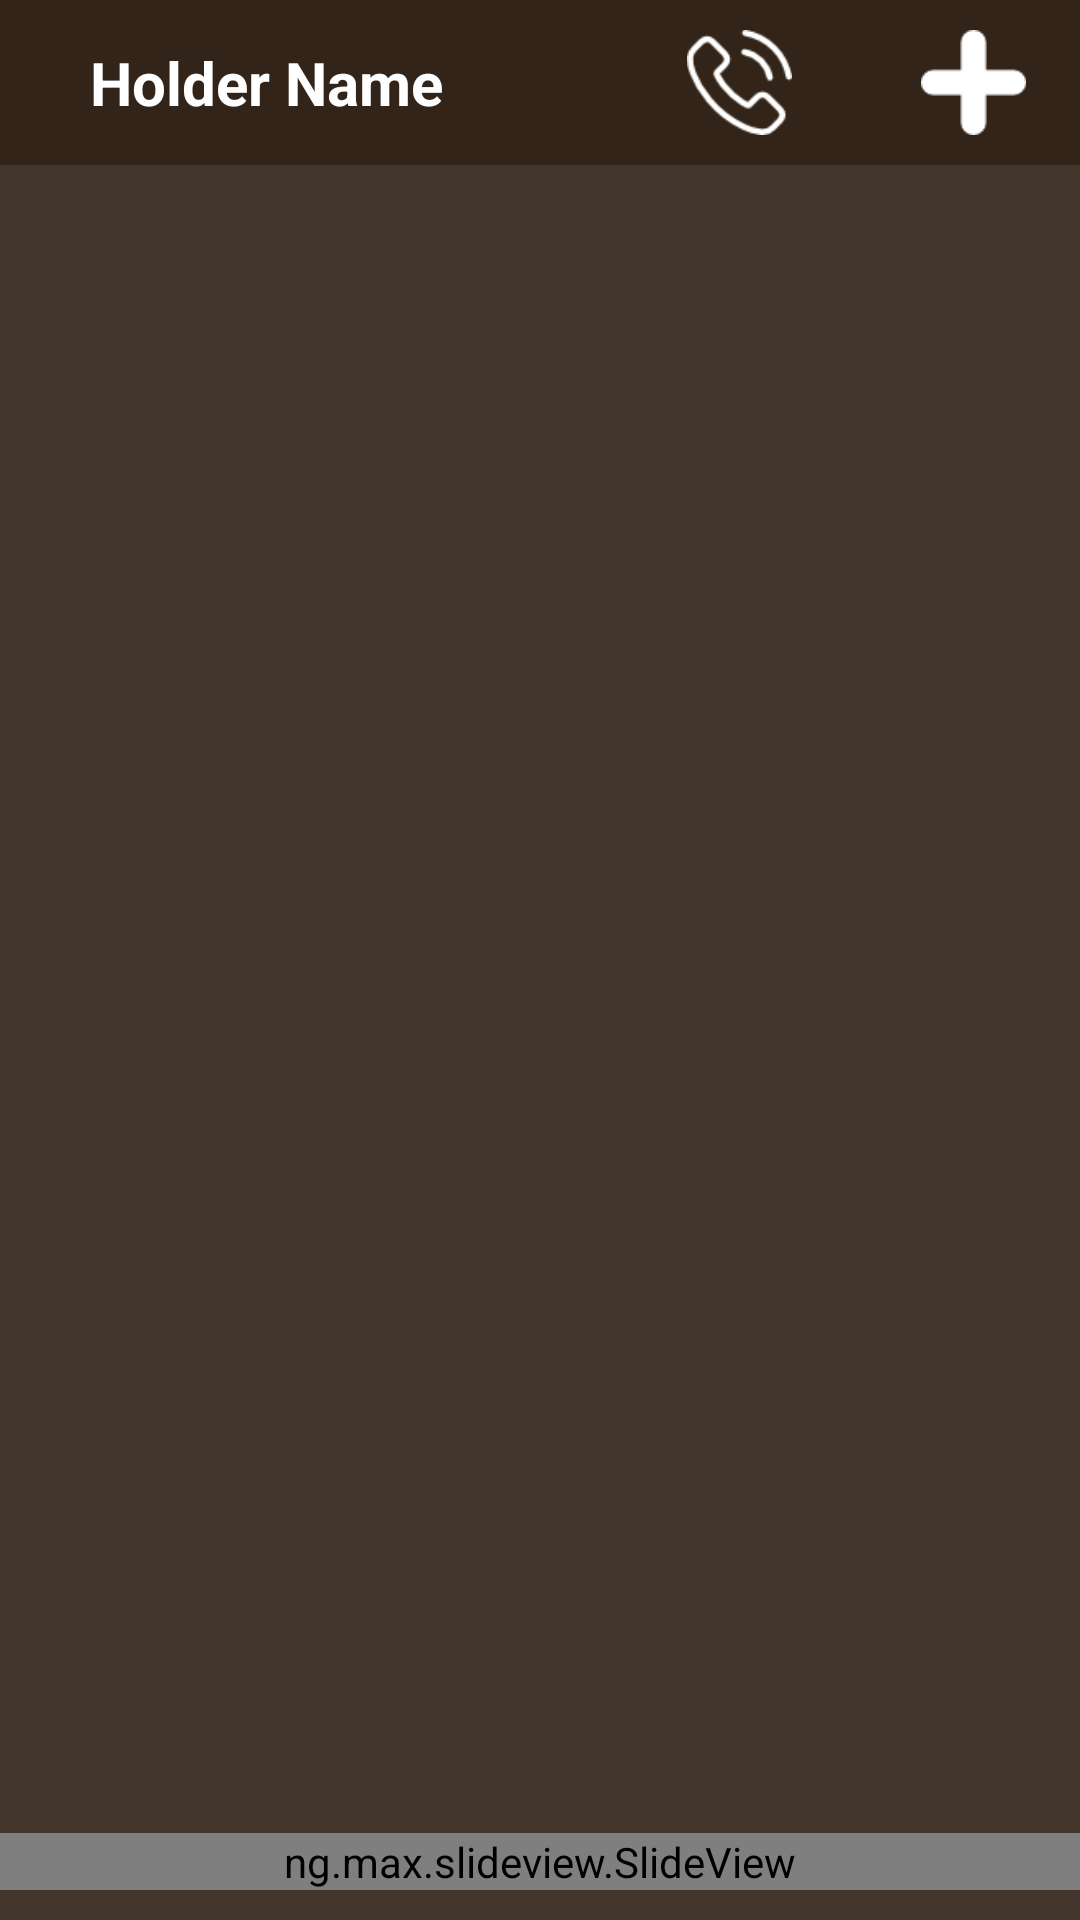

Where icons sit on this 1080×1920 app screen, as bbox=[x1, y1, x2, y2]:
add: bbox=[921, 30, 1026, 135]
call: bbox=[687, 30, 792, 135]
